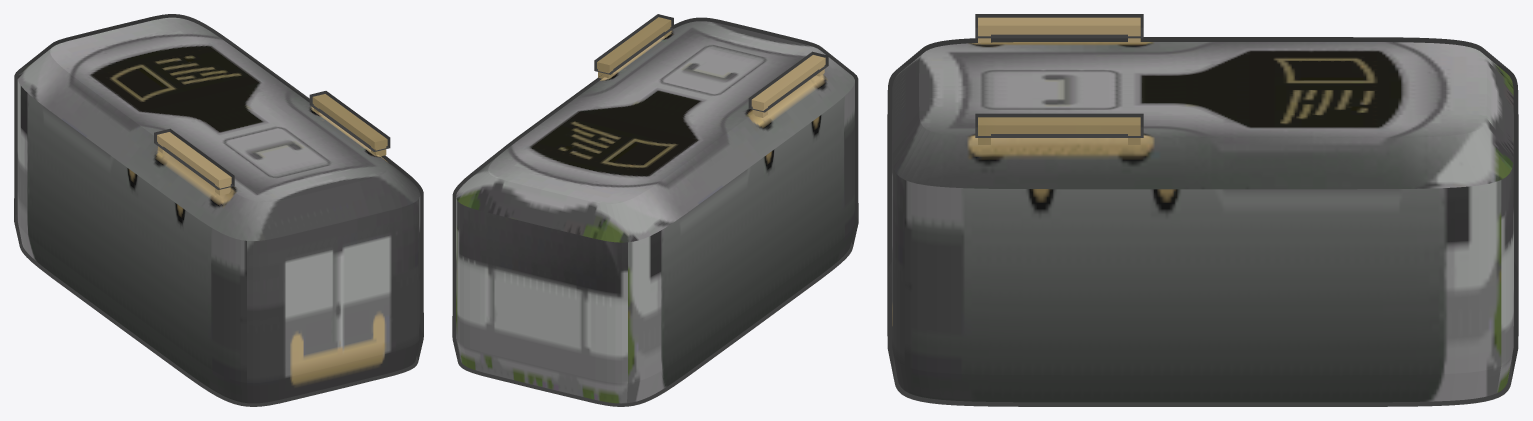
File: Building_CryptosleepCasket.glb
3 renders of one model, left to right at view 1: azimuth 30°, elevation 25°; view 2: azimuth 150°, elevation 25°; view 3: azimuth 270°, elevation 25°, orthographic. The views are drawn at different scales.
Visible parts, largest first — view 1: CryptosleepCasket, Outline; view 2: CryptosleepCasket, Outline; view 3: CryptosleepCasket, Outline.
Boxes of the visible parts, x1,y1,x2,y2 form: CryptosleepCasket: (17,17,420,403); Outline: (14,14,423,406); CryptosleepCasket: (456,17,854,403); Outline: (452,14,858,406); CryptosleepCasket: (892,17,1513,402); Outline: (887,14,1518,406).
Size of the model in its own units: 0.9799 by 0.94 by 1.97.
2 materials, 1 textured.
